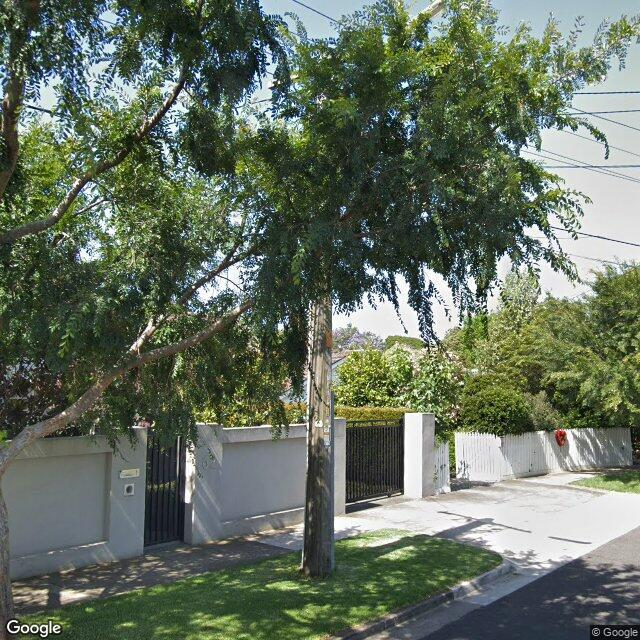timber-pole: (302, 282, 334, 580)
